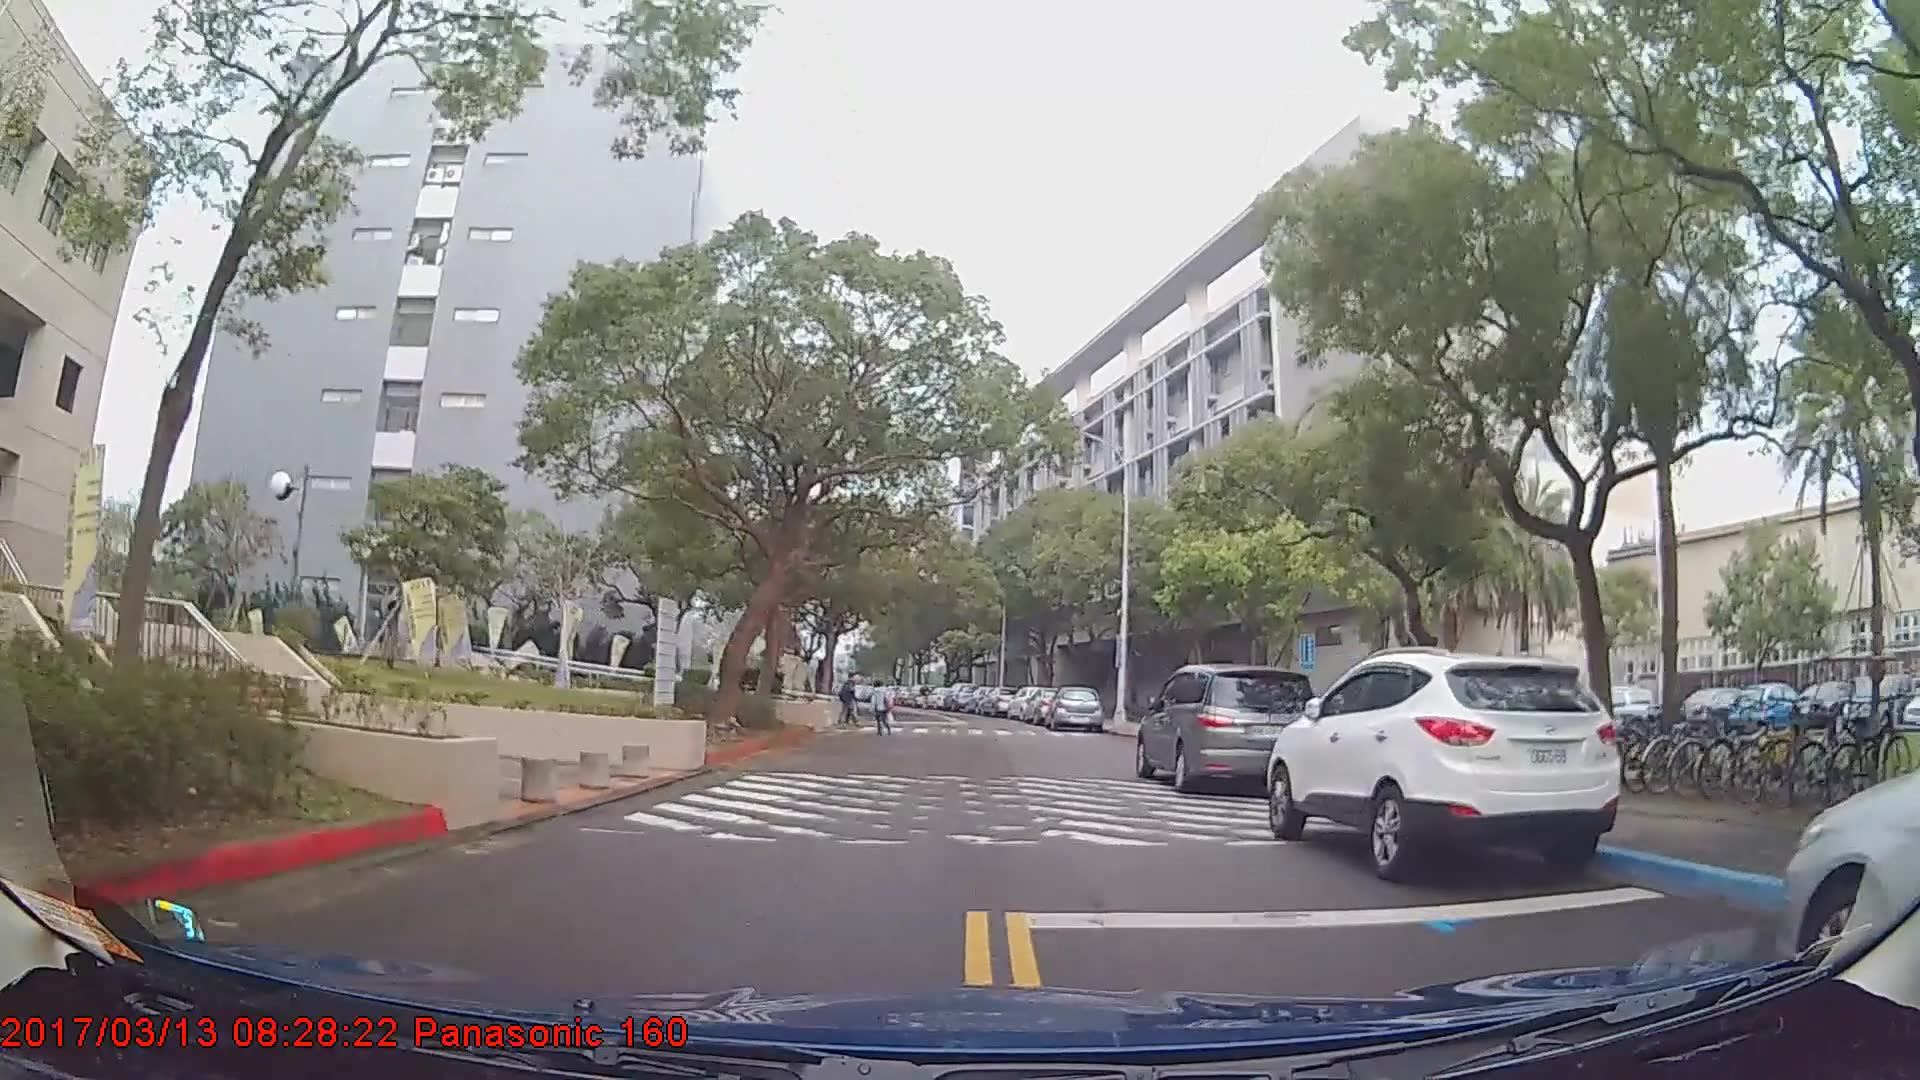pedestrian: (864, 680, 894, 739), (839, 672, 860, 726)
vehicle: (1260, 646, 1626, 880), (1133, 660, 1322, 795), (1520, 683, 1653, 749), (1787, 679, 1871, 735), (1674, 684, 1761, 734), (1725, 680, 1801, 735), (1047, 682, 1102, 733), (939, 680, 976, 711)
